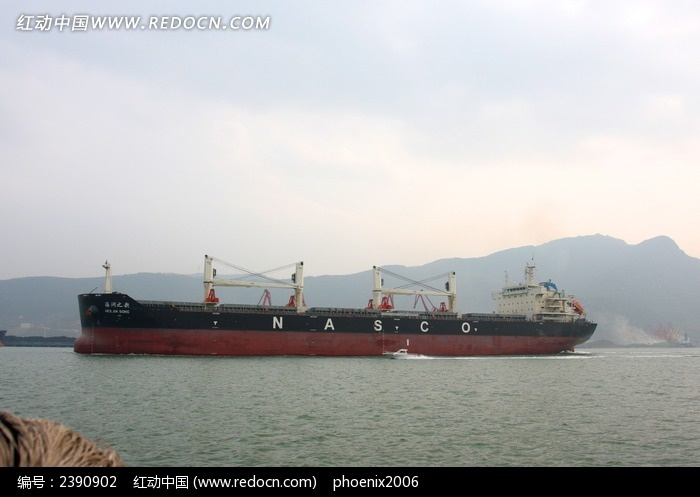Cargoship: (59, 236, 602, 358)
